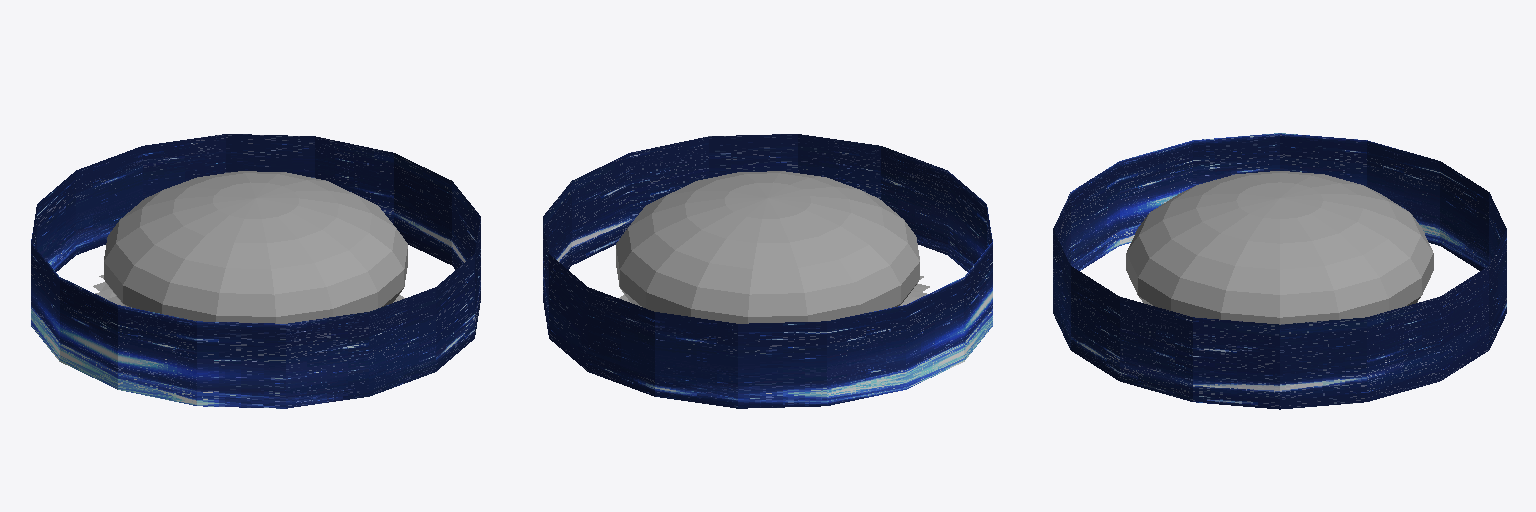
3 views of the same model, side by side, from view 1: azimuth 30°, elevation 25°; view 2: azimuth 150°, elevation 25°; view 3: azimuth 270°, elevation 25° (orthographic).
Visible parts, largest first — view 1: Mesh_0028; view 2: Mesh_0028; view 3: Mesh_0028.
Part boxes in pixels (x1,y1,x2,y2): Mesh_0028: (31, 134, 480, 408); Mesh_0028: (543, 134, 992, 408); Mesh_0028: (1053, 133, 1506, 409).
Bounding box in the file's own units: 2212 × 622 × 2212.
7 materials, 4 textured.